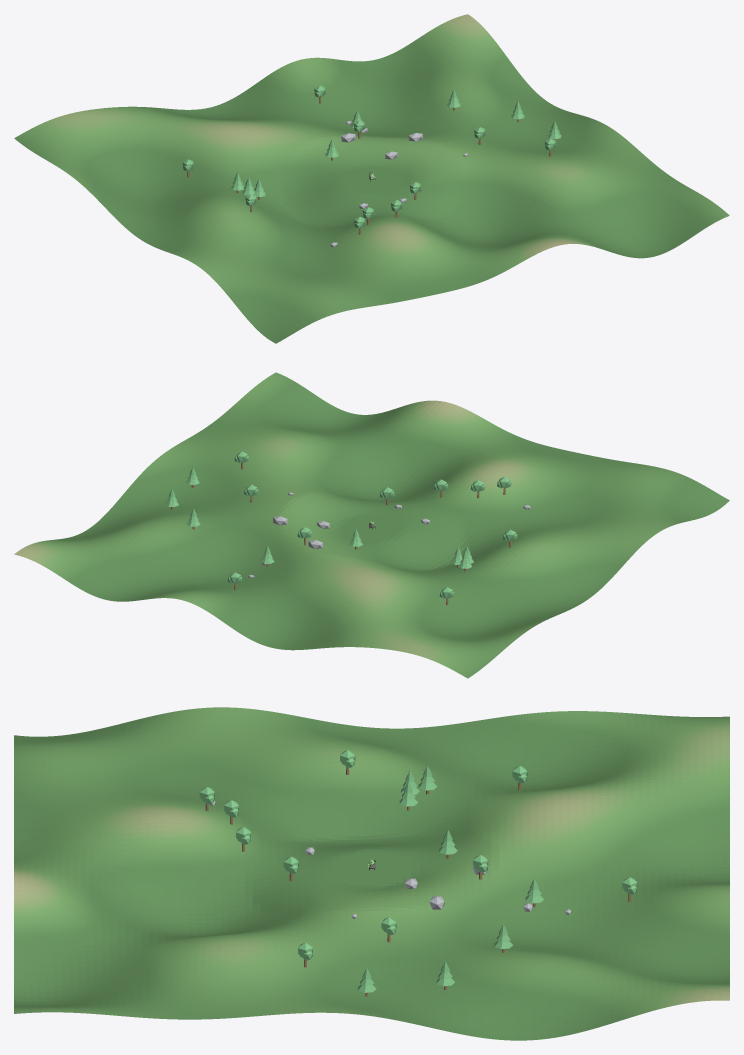
The picture shows the model from 3 angles, top to bottom: view 1: azimuth 30°, elevation 25°; view 2: azimuth 150°, elevation 25°; view 3: azimuth 270°, elevation 25°; orthographic projection. The views are drawn at different scales.
Visible parts, largest first — view 1: Ground, Tree_leaves; view 2: Ground, Tree_leaves; view 3: Ground, Tree_leaves, Rocks.
Part boxes in pixels (left/top/right/bottom): Ground: left=14, top=14, right=729, bottom=343; Tree_leaves: left=182, top=85, right=561, bottom=228; Ground: left=14, top=372, right=729, bottom=678; Tree_leaves: left=165, top=451, right=517, bottom=598; Ground: left=14, top=707, right=729, bottom=1040; Tree_leaves: left=199, top=750, right=637, bottom=992; Rocks: left=210, top=800, right=571, bottom=918.
Size of the model in its own units: 80 by 7.57 by 80.
Materials: 10 (1 with a texture image).
